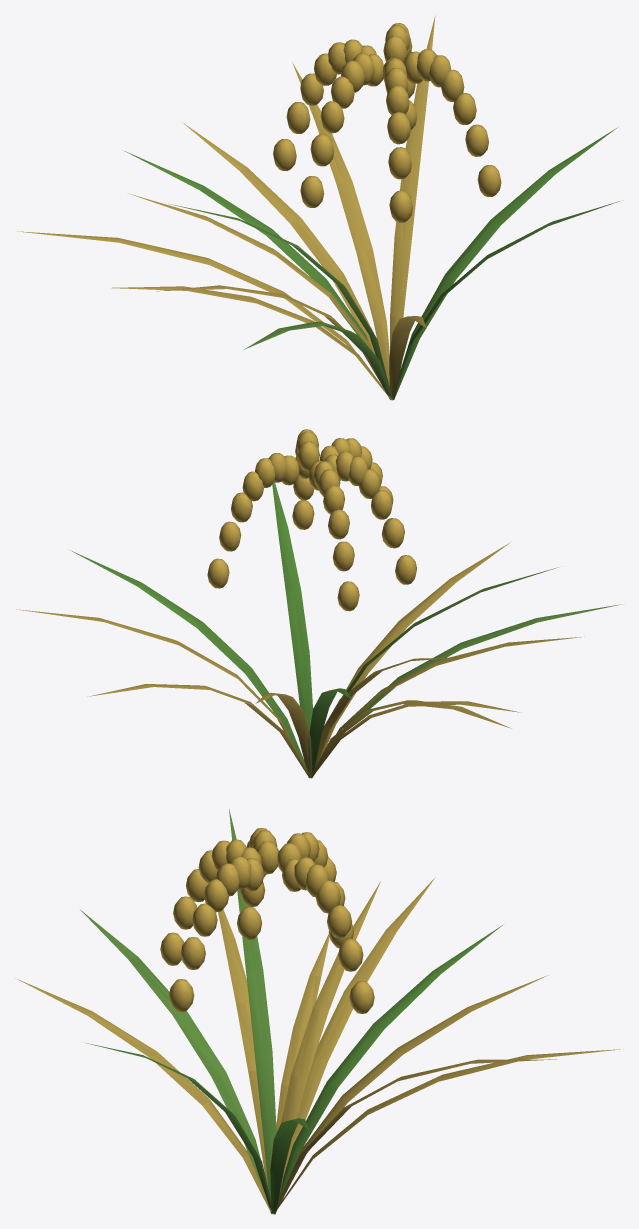
Rendered from crop-rice-ready.glb.
3 views of the same model, one above another, from view 1: azimuth 30°, elevation 25°; view 2: azimuth 150°, elevation 25°; view 3: azimuth 270°, elevation 25° (orthographic). The views are drawn at different scales.
Parts seen in each view (by area): view 1: crop-rice-ready-kit; view 2: crop-rice-ready-kit; view 3: crop-rice-ready-kit.
Part boxes in pixels (<box>): crop-rice-ready-kit: <box>17,16,619,400</box>; crop-rice-ready-kit: <box>16,429,621,778</box>; crop-rice-ready-kit: <box>15,809,623,1214</box>.
Size of the model in its own units: 1.22 by 0.7651 by 1.16.
